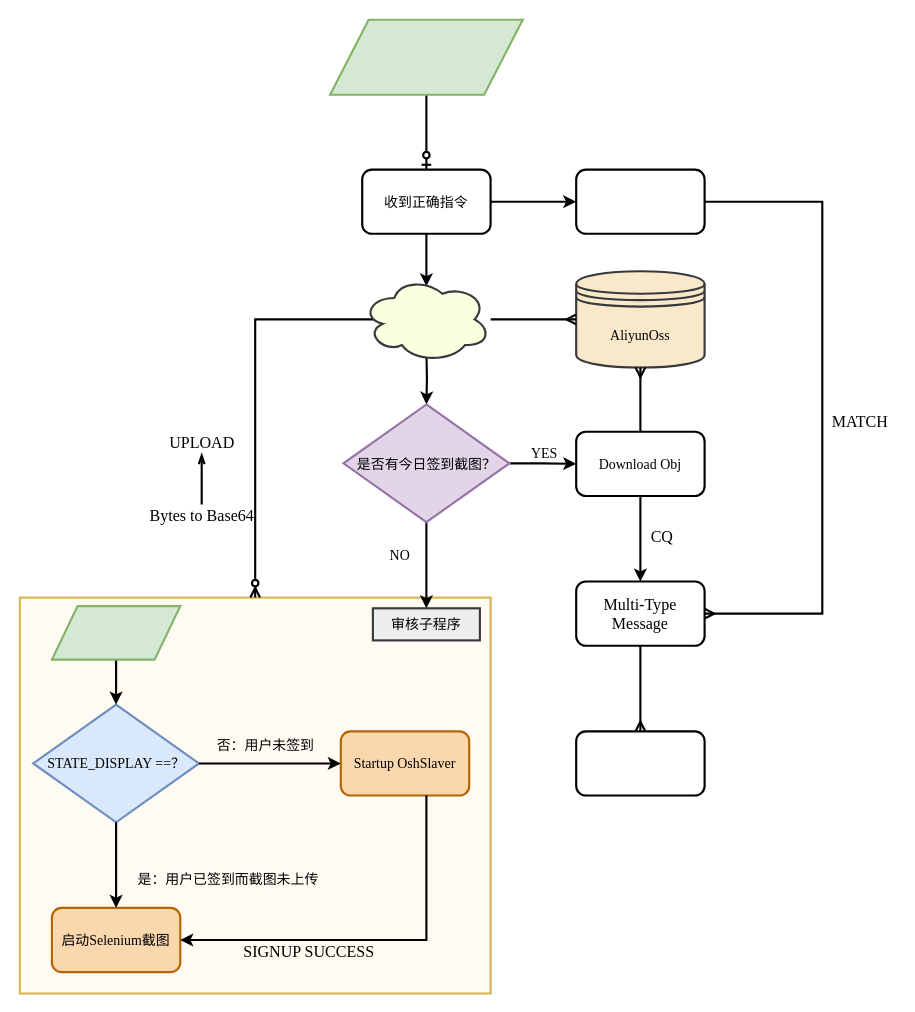
Some shapes in this 915 by 1012 pixel diagram are drawn without their labels. The shapes that lost their labels are listed below. From the top down, each one's centre as x and y in pixels, then its label:
At [425,56]: "体温签到——流图2".
At [640,201]: "规则识别".
At [426,319]: "访问OSS".
At [115,632]: "Init OshSlaver".
At [640,763]: "Bot Send".
